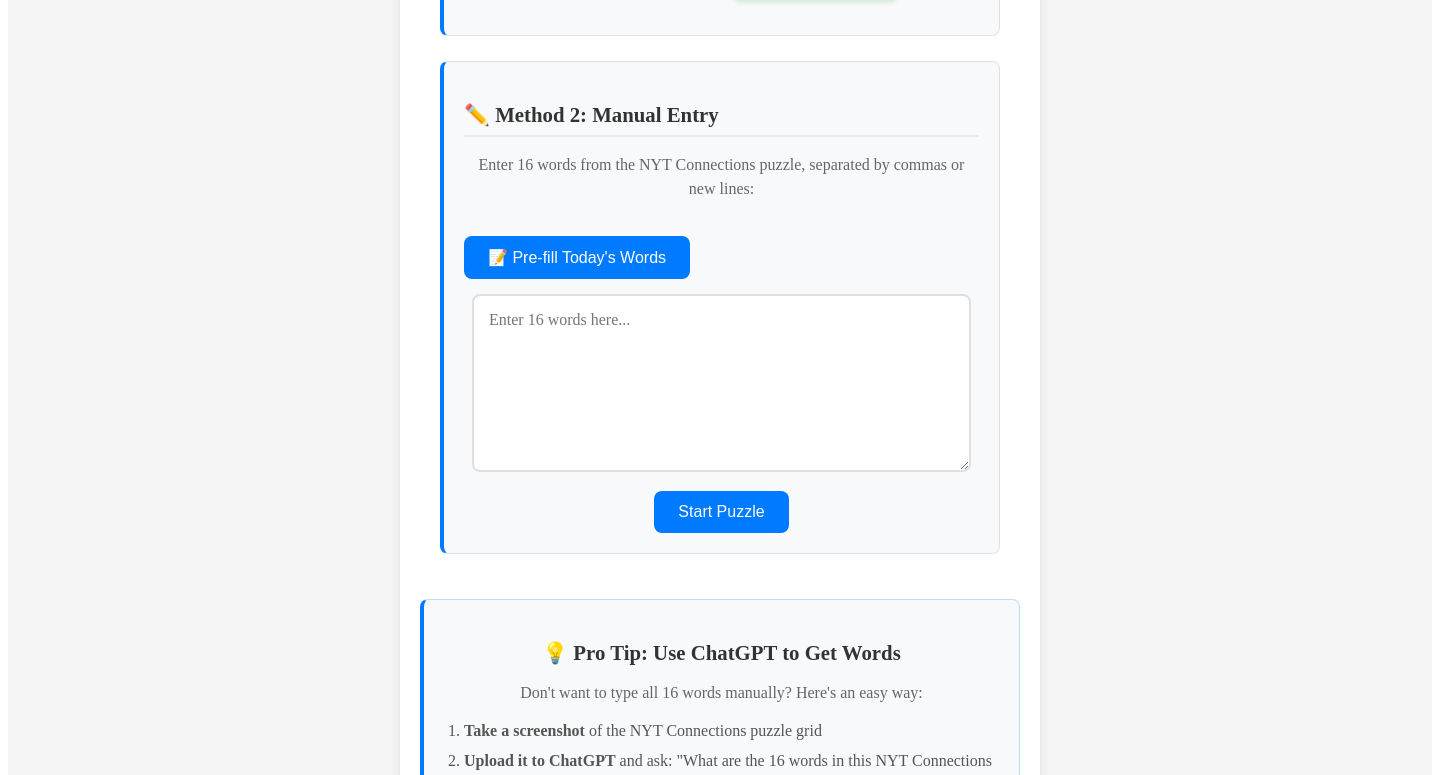
Scenario: App Component › starts game with valid input
(page scrolled)
In the text box with placeholder "Enter 16 words here...": point(722, 383) [472,294,971,472], type "word1, word2, word3, word4, word5, word6, word7, word8, word9, word10, word11, word12, word13, word14, word15, word16"
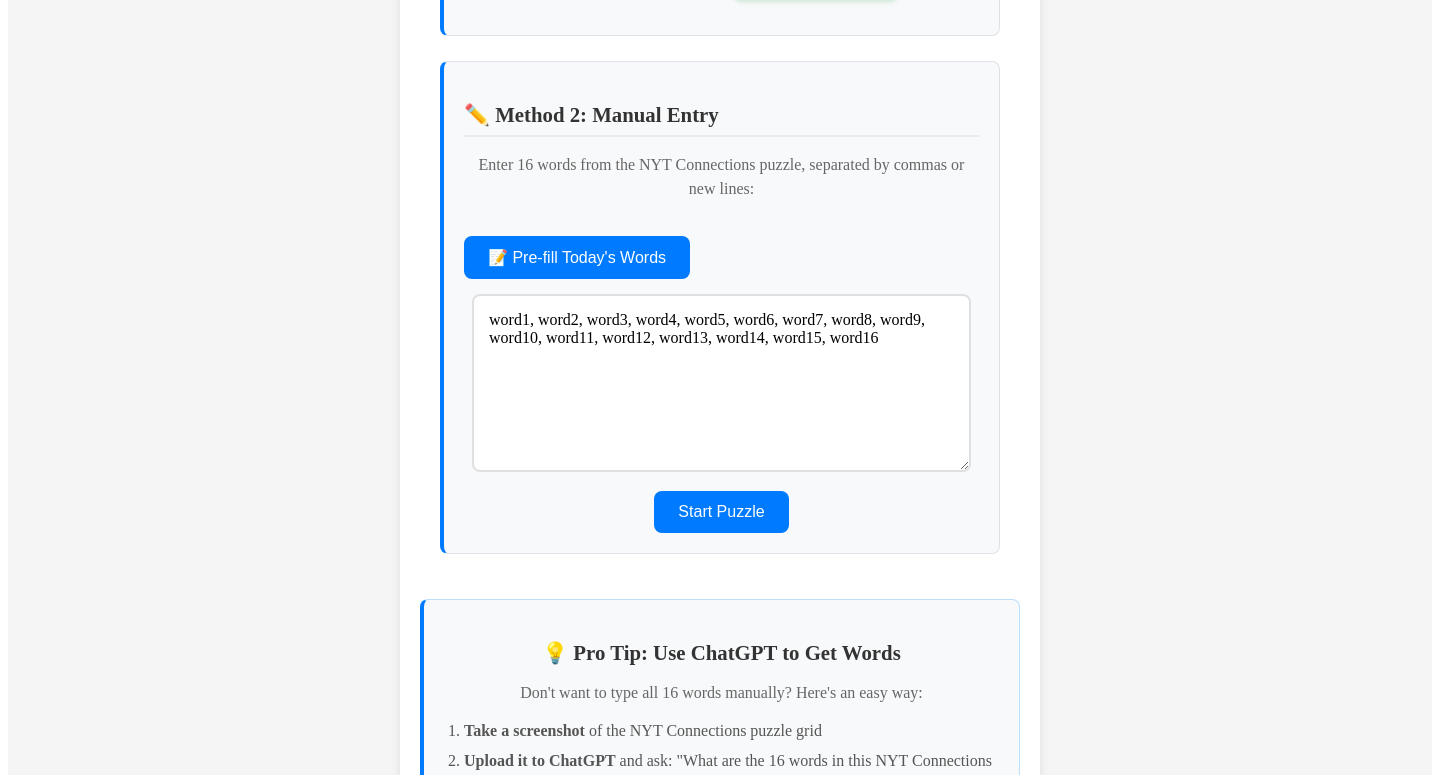
Click the button "Start Puzzle": point(722, 512) [654,491,789,533]
(page scrolled)
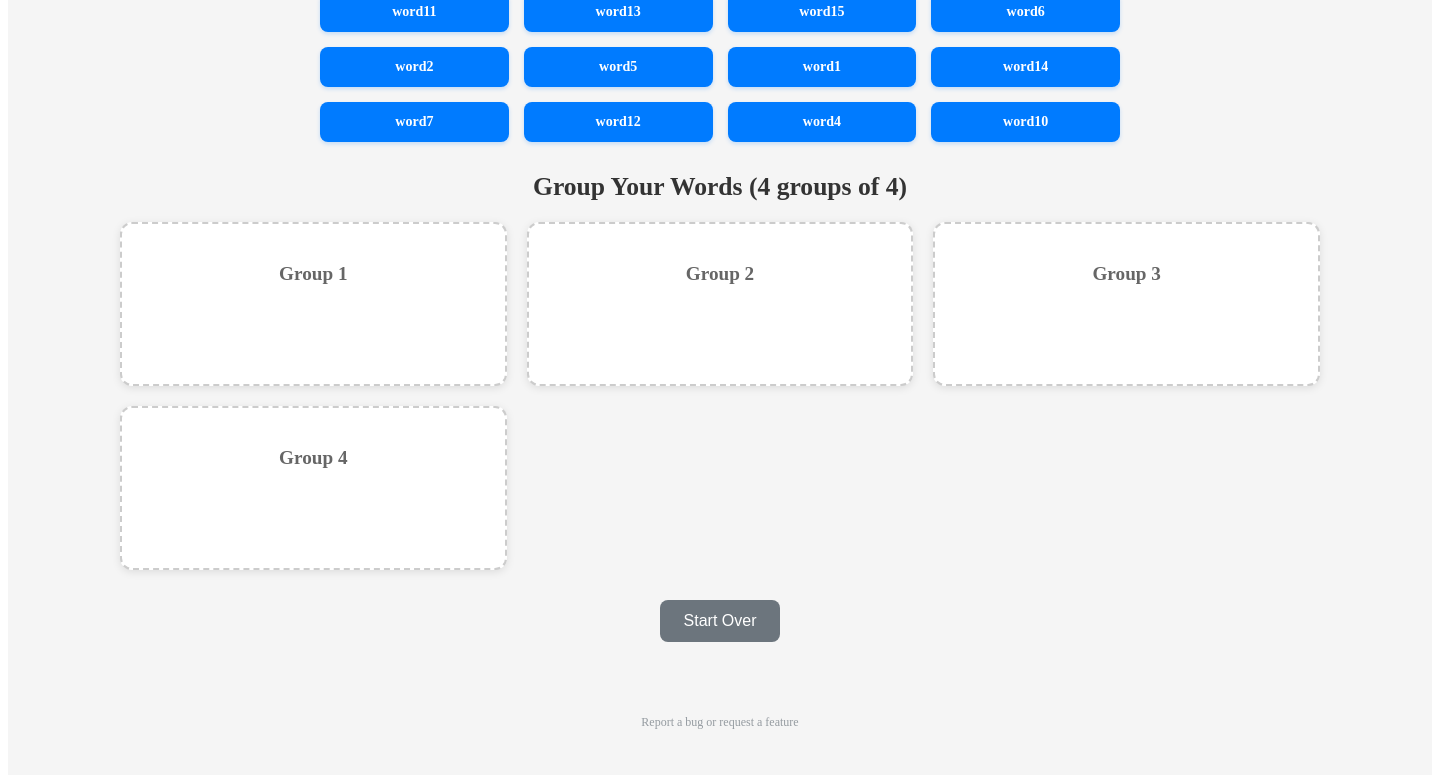
Expected: the heading "Group Your Words (4 groups of 4)" is shown, [533,172,907,201]
